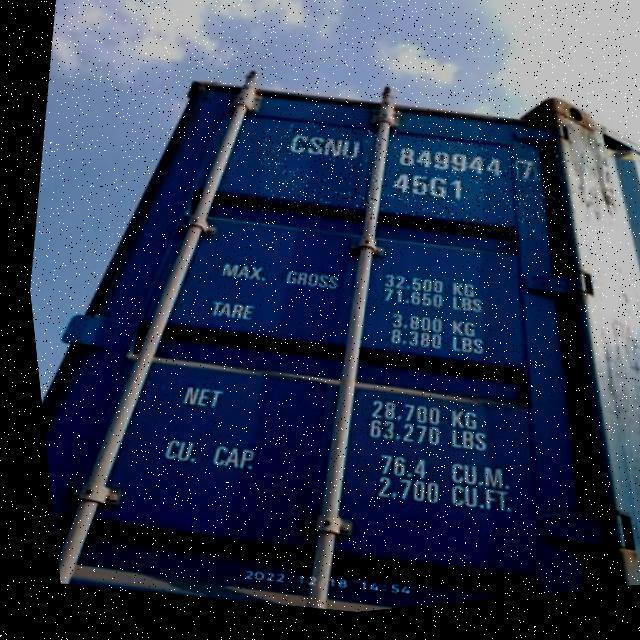ISO: (390, 170, 474, 204)
container_number: (274, 126, 549, 175)
